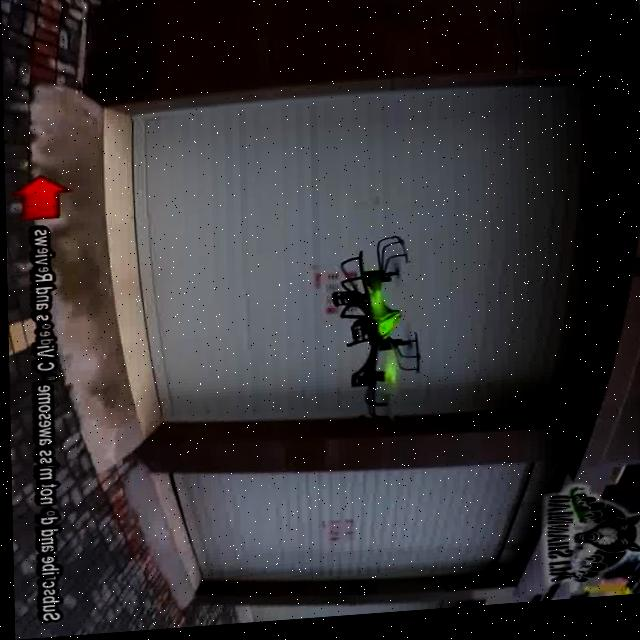drone: (320, 235, 428, 433)
